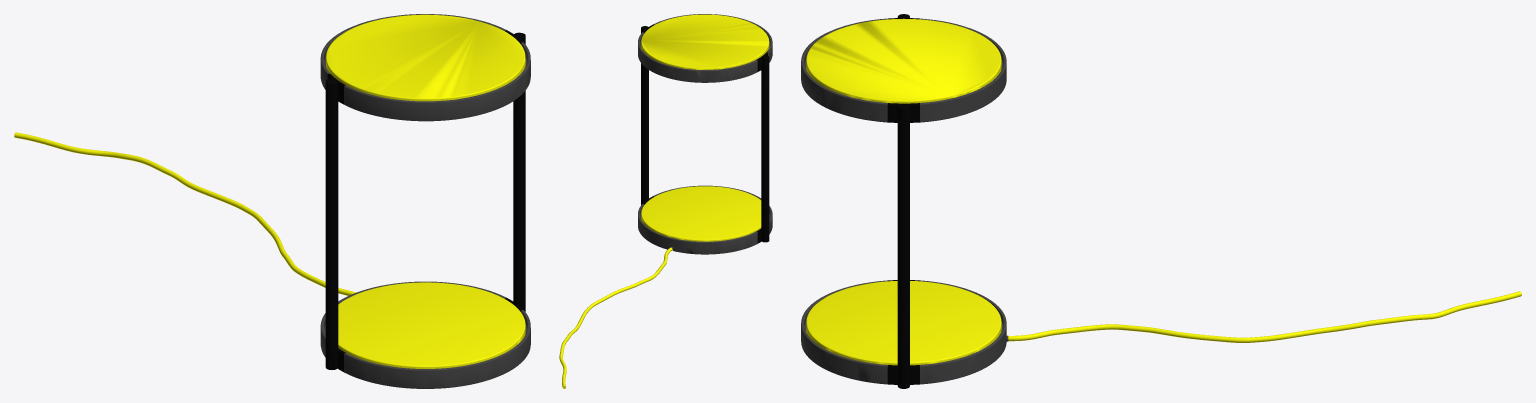
File: designconnected-sospir-table-lamp-10001.optimized.glb
3 renders of one model, left to right at view 1: azimuth 30°, elevation 25°; view 2: azimuth 150°, elevation 25°; view 3: azimuth 270°, elevation 25°, orthographic. The views are drawn at different scales.
Parts seen in each view (by area): view 1: Ligne_Roset_Sospir; view 2: Ligne_Roset_Sospir; view 3: Ligne_Roset_Sospir.
Boxes of the visible parts, <box> form: Ligne_Roset_Sospir: <box>14,14,530,388</box>; Ligne_Roset_Sospir: <box>559,14,772,388</box>; Ligne_Roset_Sospir: <box>801,14,1521,388</box>.
Bounding box in the file's own units: 0.218 × 0.3035 × 0.7009.
